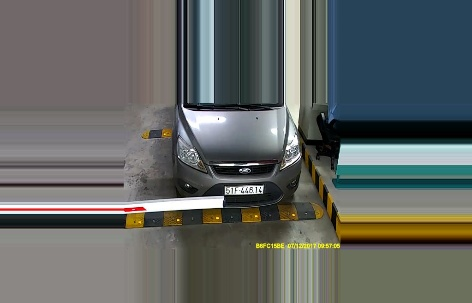plate: (223, 184, 264, 196)
